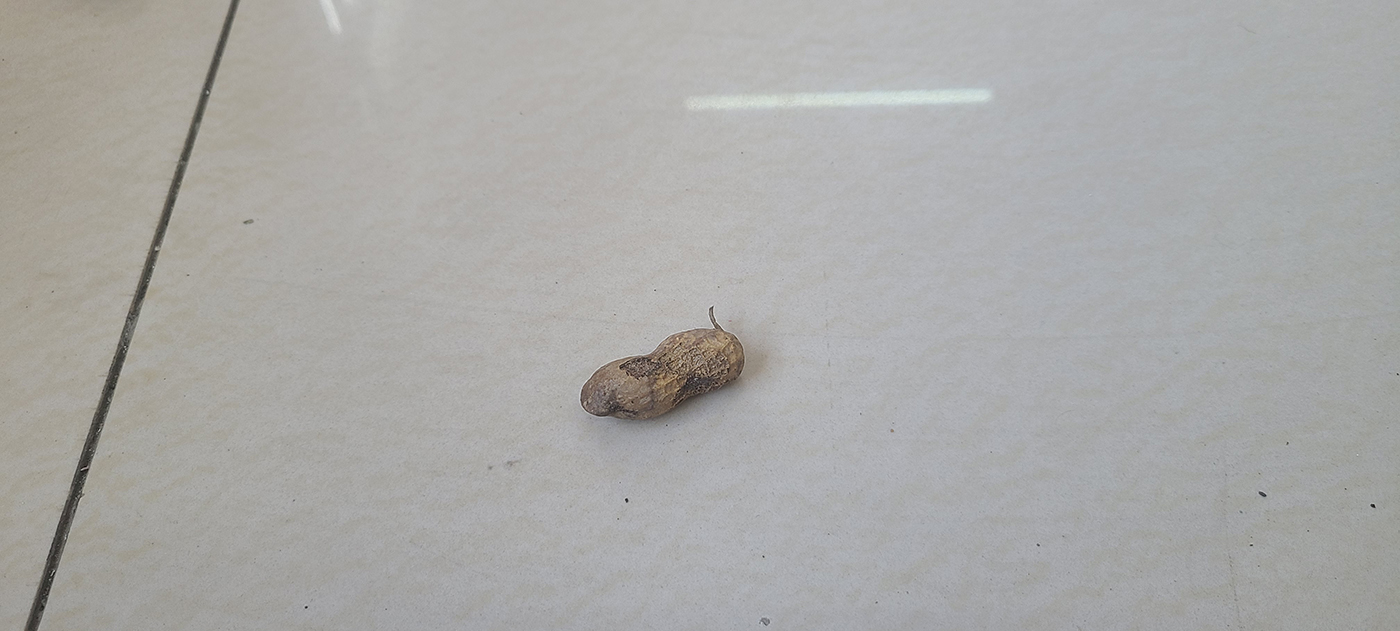l: (576, 325, 746, 419)
